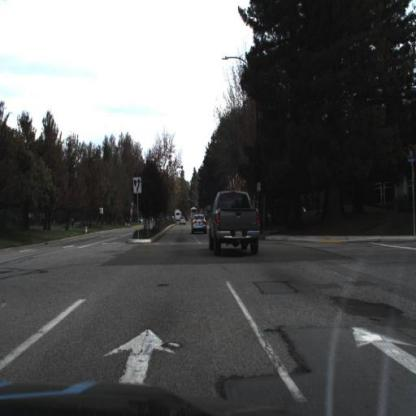car: (208, 189, 265, 255), (190, 211, 208, 236)
